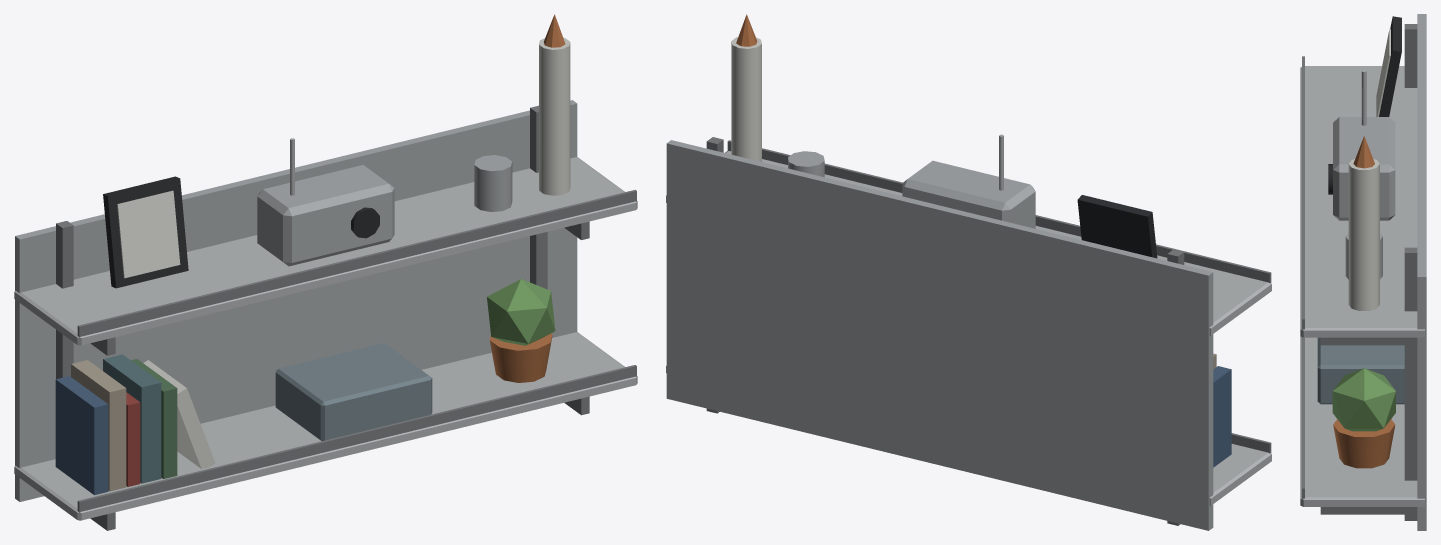
Rendered from astro_wall_shelf.fbx.
3 renders of one model, left to right at view 1: azimuth 30°, elevation 25°; view 2: azimuth 150°, elevation 25°; view 3: azimuth 270°, elevation 25°, orthographic. The views are drawn at different scales.
Parts seen in each view (by area): view 1: WallShelf_Body; view 2: WallShelf_Body; view 3: WallShelf_Body.
Boxes of the visible parts, left/top/right/bottom form: WallShelf_Body: left=14, top=14, right=637, bottom=530; WallShelf_Body: left=666, top=14, right=1271, bottom=530; WallShelf_Body: left=1300, top=14, right=1426, bottom=530.
Size of the model in its own units: 201 by 134 by 40.5.
